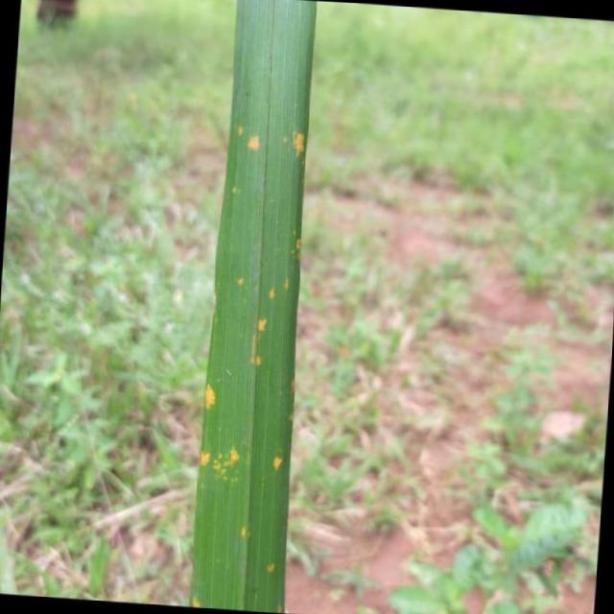Kalium: (187, 0, 315, 614)
